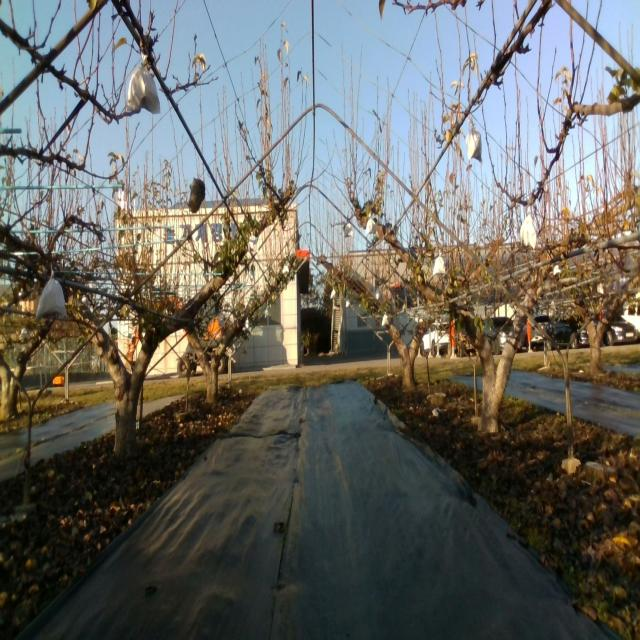pearbags: (127, 51, 161, 118), (34, 272, 69, 320), (465, 117, 483, 163), (520, 216, 536, 252), (432, 250, 446, 275), (248, 231, 258, 253)
